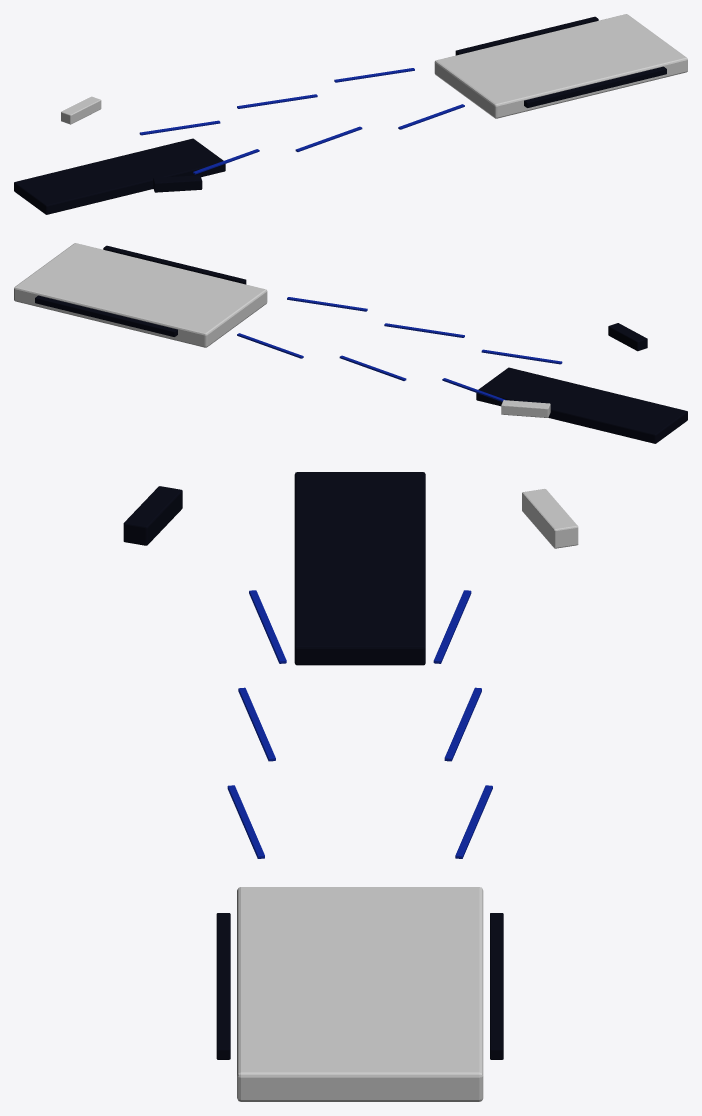
File: destiny_lord_bow_stage9_refined_A.obj
The picture shows the model from 3 angles, top to bottom: view 1: azimuth 30°, elevation 25°; view 2: azimuth 150°, elevation 25°; view 3: azimuth 270°, elevation 25°; orthographic projection. The views are drawn at different scales.
Parts seen in each view (by area): view 1: DL_Bow_Crown_Plate, DL_Center_Ridge_Fwd, DL_Bow_Crown_SideBrace_-1, DL_Bow_Crown_SideBrace_1, DL_Fate_Ring_Node_7, DL_Fate_Ring_Node_0; view 2: DL_Bow_Crown_Plate, DL_Center_Ridge_Fwd, DL_Bow_Crown_SideBrace_1, DL_Bow_Crown_SideBrace_-1, DL_Fate_Ring_Node_0, DL_Fate_Ring_Node_7; view 3: DL_Bow_Crown_Plate, DL_Center_Ridge_Fwd, DL_Bow_Crown_SideBrace_-1, DL_Fate_Ring_Node_7, DL_Fate_Ring_Node_0, DL_Bow_Crown_SideBrace_1.
Boxes of the visible parts, box(x1,y1,x2,y2) form: DL_Bow_Crown_Plate: box(434, 14, 687, 118); DL_Center_Ridge_Fwd: box(14, 138, 225, 214); DL_Bow_Crown_SideBrace_-1: box(524, 66, 666, 107); DL_Bow_Crown_SideBrace_1: box(455, 16, 598, 55); DL_Fate_Ring_Node_7: box(153, 175, 202, 192); DL_Fate_Ring_Node_0: box(61, 96, 101, 124); DL_Bow_Crown_Plate: box(14, 243, 267, 347); DL_Center_Ridge_Fwd: box(476, 367, 687, 443); DL_Bow_Crown_SideBrace_1: box(35, 295, 177, 336); DL_Bow_Crown_SideBrace_-1: box(103, 245, 246, 284); DL_Fate_Ring_Node_0: box(501, 400, 550, 417); DL_Fate_Ring_Node_7: box(608, 323, 647, 351); DL_Bow_Crown_Plate: box(237, 887, 483, 1101); DL_Center_Ridge_Fwd: box(294, 472, 425, 665); DL_Bow_Crown_SideBrace_-1: box(216, 913, 230, 1059); DL_Fate_Ring_Node_7: box(123, 486, 182, 545); DL_Fate_Ring_Node_0: box(522, 489, 578, 548); DL_Bow_Crown_SideBrace_1: box(490, 913, 503, 1059).
Bounding box in the file's own units: 37.7 × 2.24 × 11.82.
